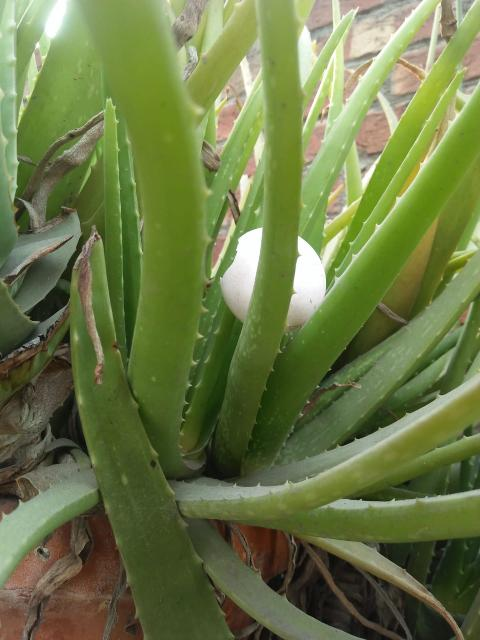Roto: (219, 226, 326, 332)
